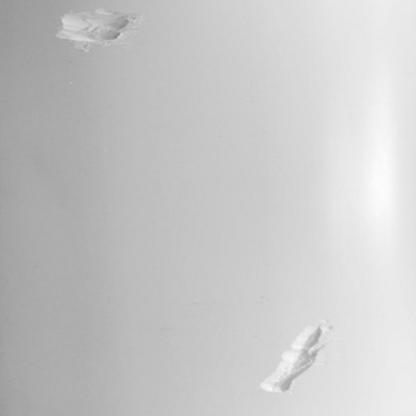sunshang: (261, 325, 327, 393), (57, 9, 137, 53)
